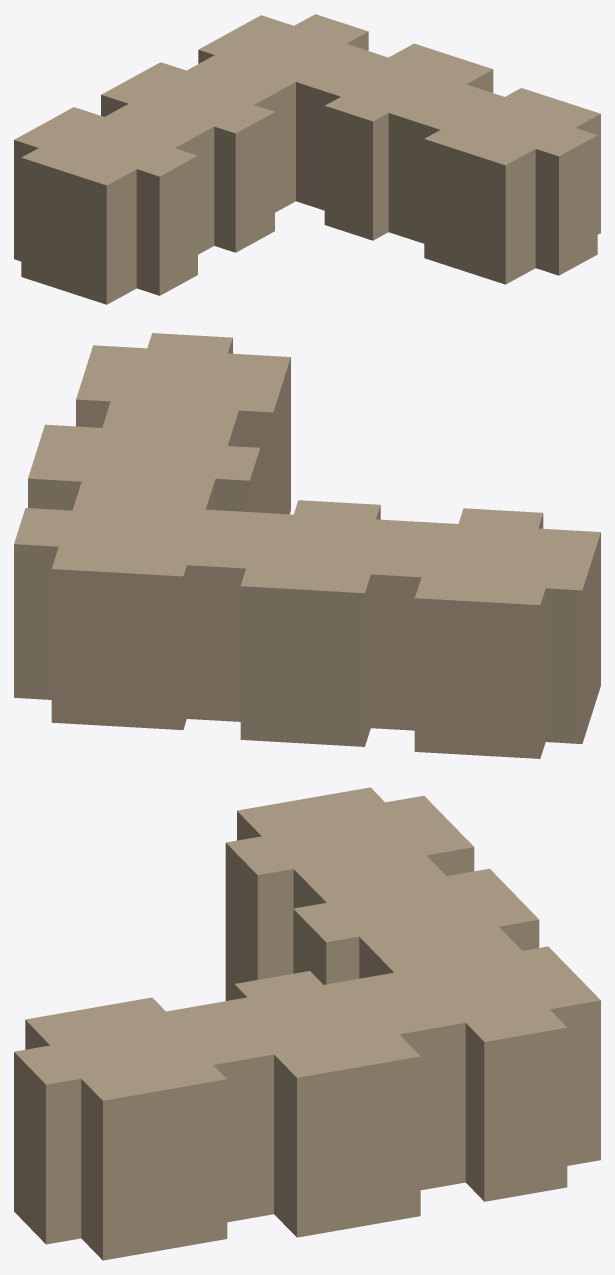
File: bld_106306642.dae
The picture shows the model from 3 angles, top to bottom: view 1: azimuth 30°, elevation 25°; view 2: azimuth 150°, elevation 25°; view 3: azimuth 270°, elevation 25°; orthographic projection. The views are drawn at different scales.
Parts seen in each view (by area): view 1: bld_106306642; view 2: bld_106306642; view 3: bld_106306642.
Boxes of the visible parts, left/top/right/bottom form: bld_106306642: left=14, top=14, right=600, bottom=304; bld_106306642: left=14, top=333, right=600, bottom=758; bld_106306642: left=14, top=787, right=600, bottom=1260.
Size of the model in its own units: 33.67 by 26.64 by 8.
